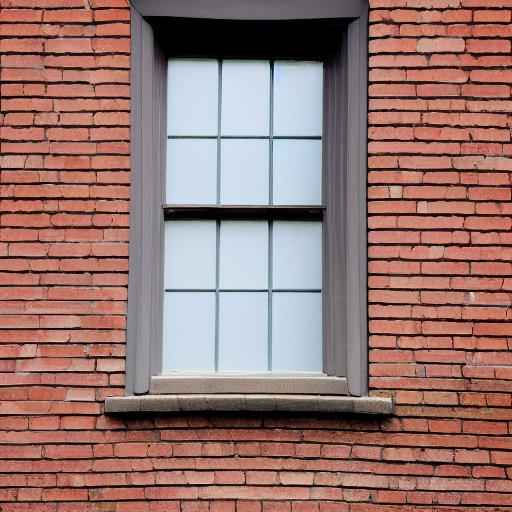Window: (106, 0, 398, 421)
